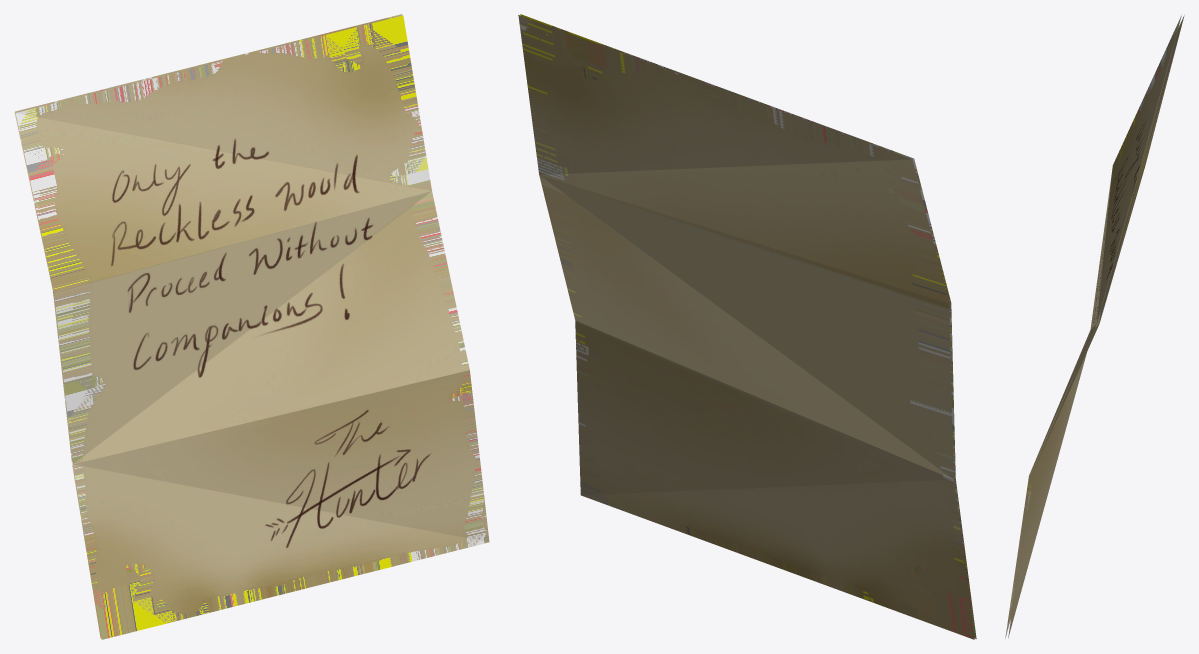
Rendered from hunter note 1.glb.
3 views of the same model, side by side, from view 1: azimuth 30°, elevation 25°; view 2: azimuth 150°, elevation 25°; view 3: azimuth 270°, elevation 25° (orthographic). The views are drawn at different scales.
Parts seen in each view (by area): view 1: Hunter Note; view 2: Hunter Note; view 3: Hunter Note.
Part boxes in pixels (box(x1,y1,x2,y2)): Hunter Note: box(14, 14, 489, 639); Hunter Note: box(518, 14, 976, 639); Hunter Note: box(1005, 15, 1184, 638).
Size of the model in its own units: 0.2727 by 0.3413 by 0.1138.
1 material, 1 textured.
